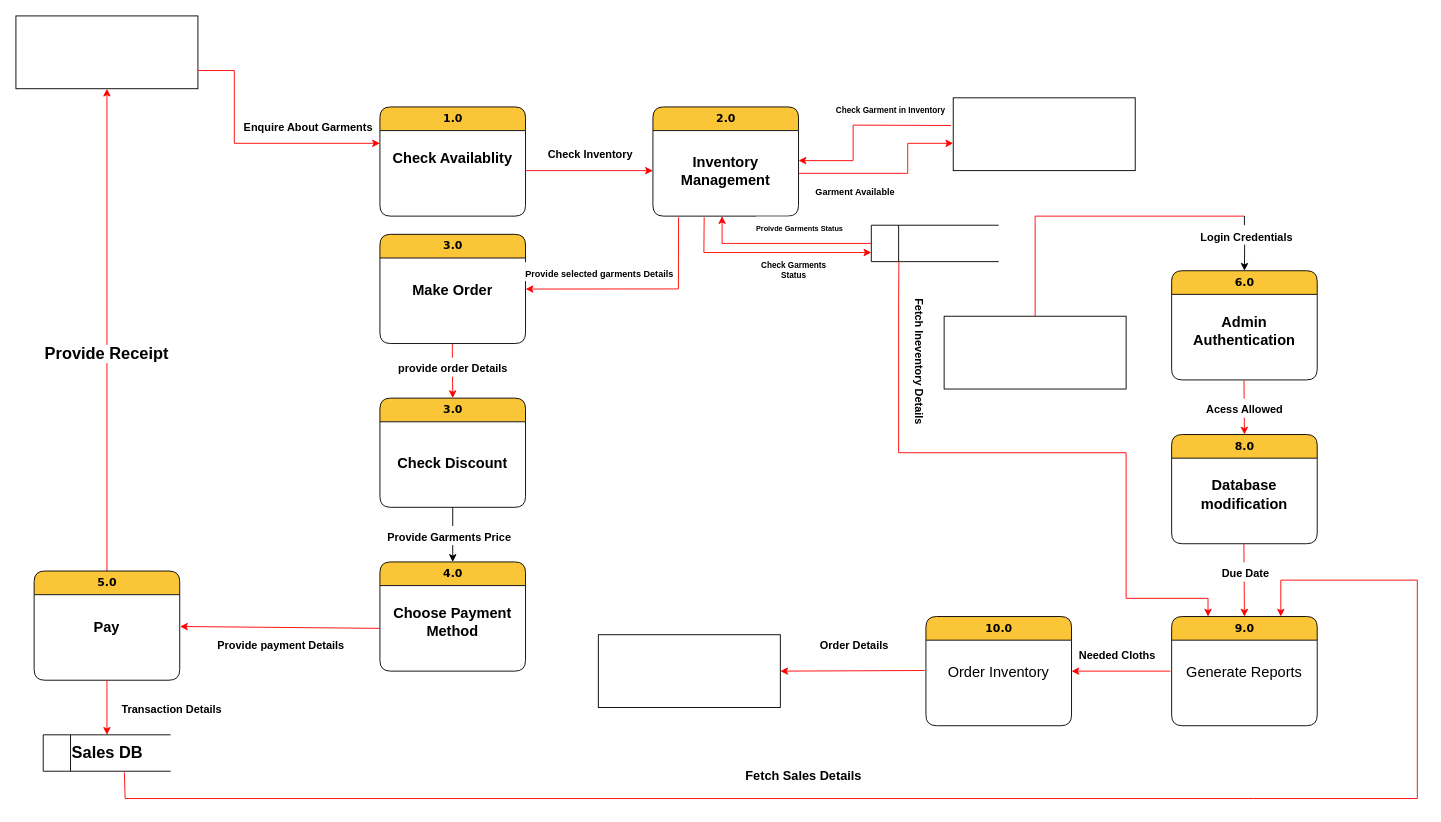
The diagram is 1441 pixels wide and 822 high, and some of its shapes have lost their labels. Each missing label, with the box of its shape:
Admin: (943, 315, 1126, 389)
Customer: (15, 15, 198, 89)
Employee: (952, 97, 1135, 171)
Inventory DB: (870, 224, 999, 262)
Supplier: (597, 634, 780, 708)
